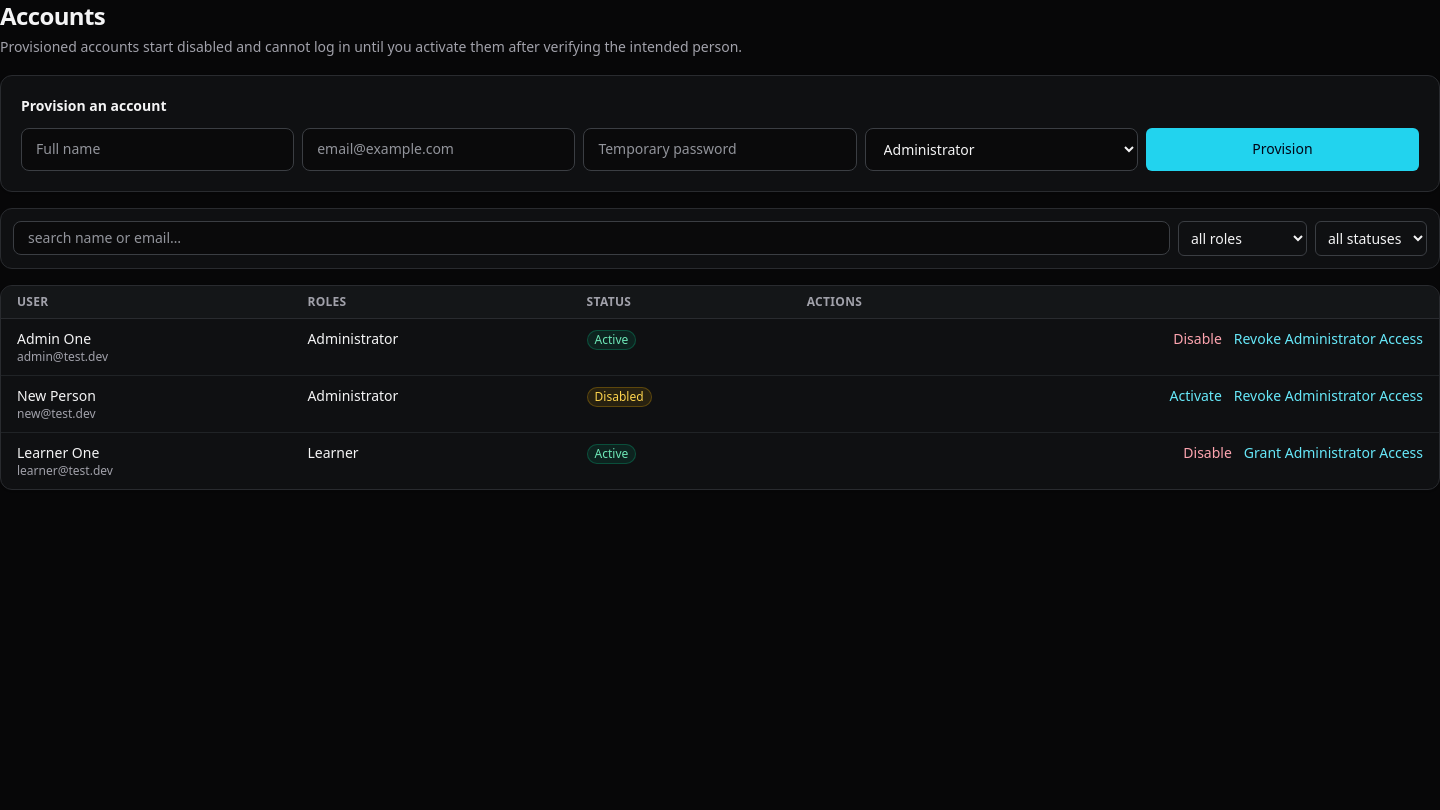
AdminAccountsPage › keeps the confirmation open on a stale role conflict without duplicate requests
Click the button "Grant Administrator Access" at [1333, 453], box [1244, 443, 1423, 463]
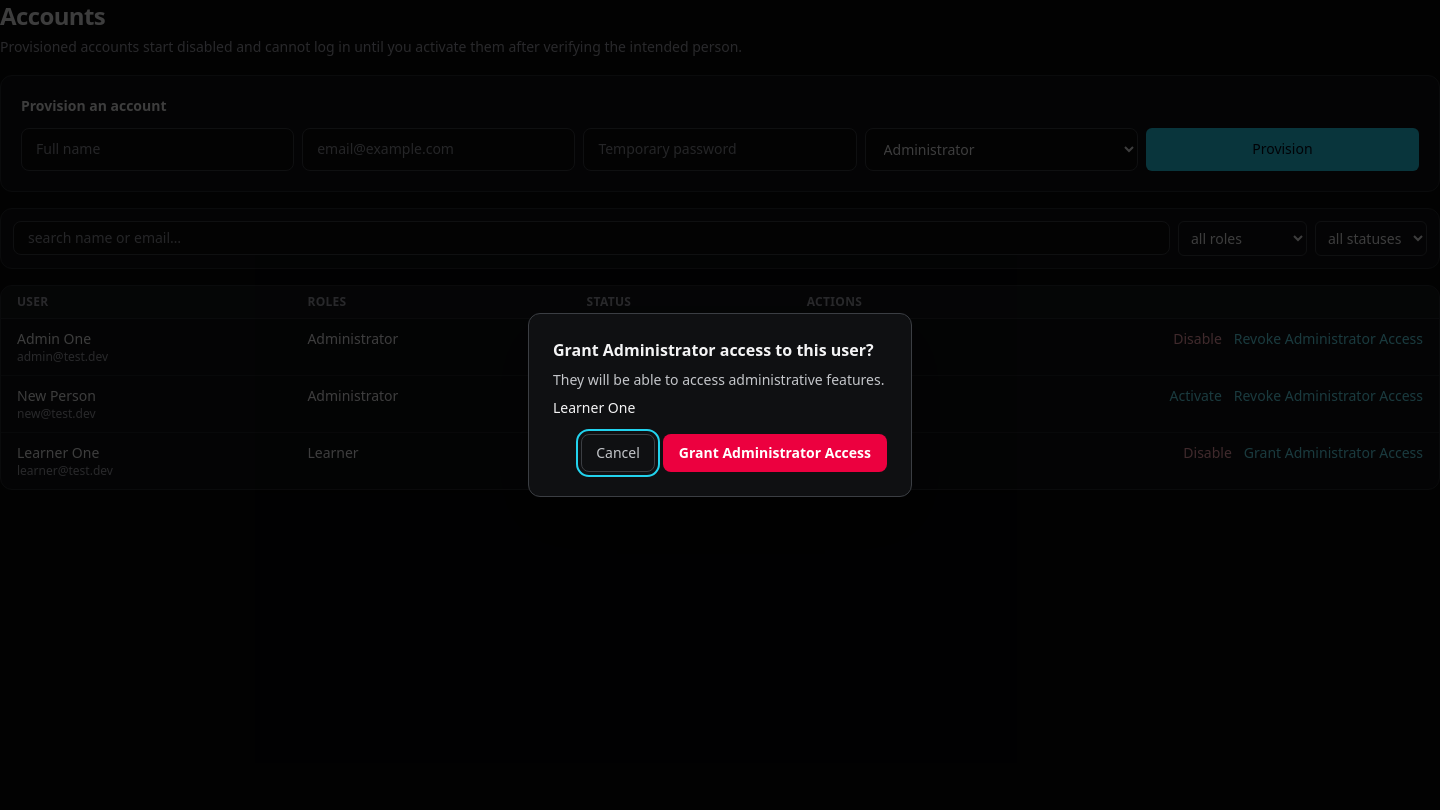
Click the button "Grant Administrator Access" at [775, 453], box [663, 434, 887, 472]
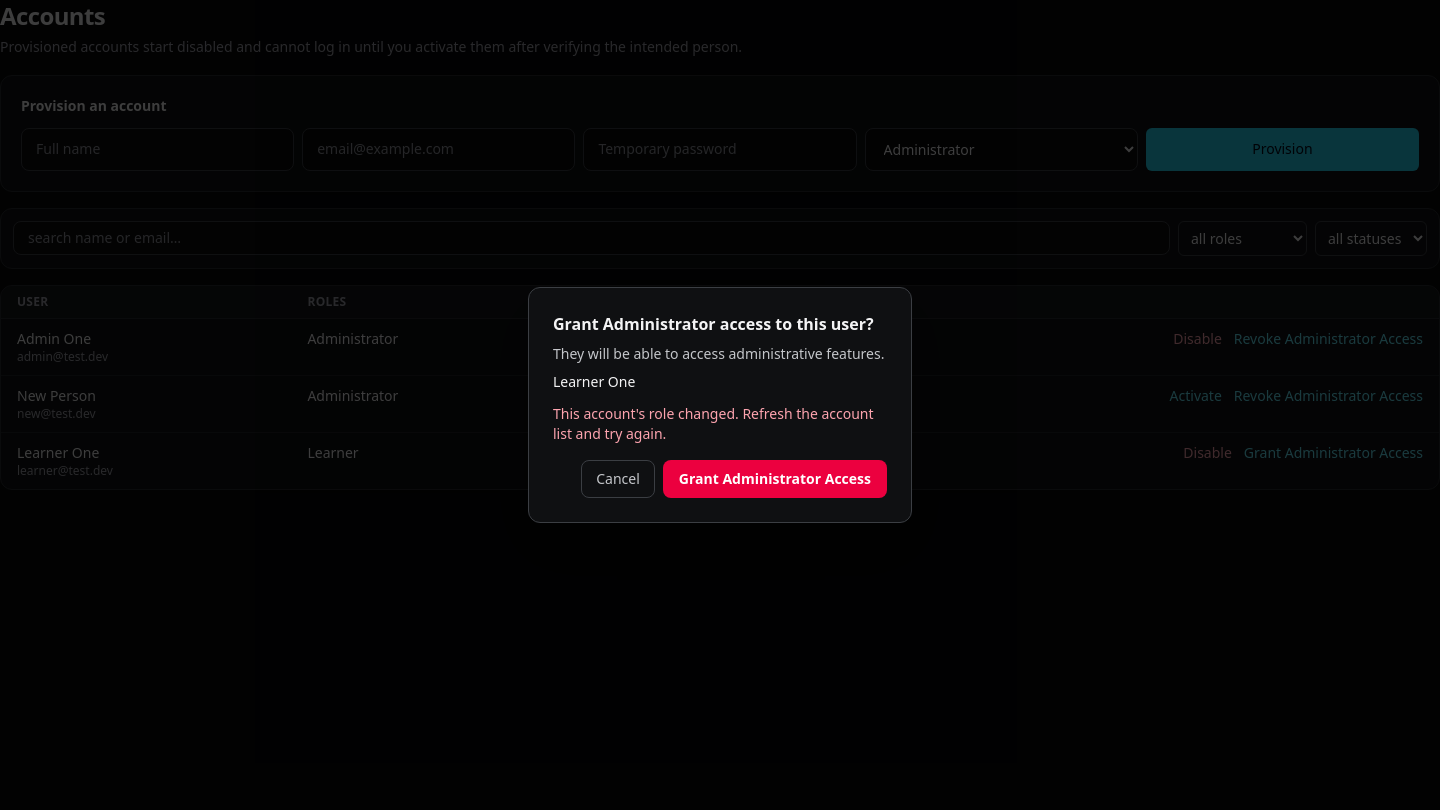
expect the dialog "Grant Administrator access to this user?" is shown: met, box [528, 287, 912, 523]
expect the message reads "This account's role changed. Refresh the account list and try again.": met, box [553, 404, 874, 443]
